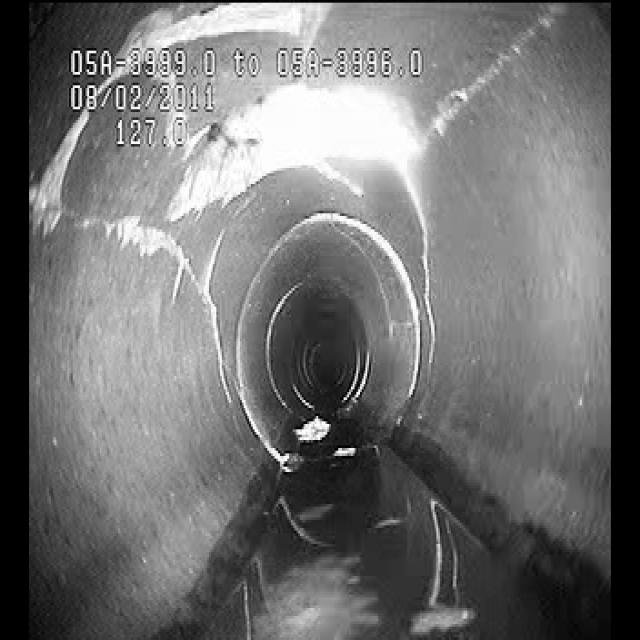Fracture: (66, 176, 202, 316)
